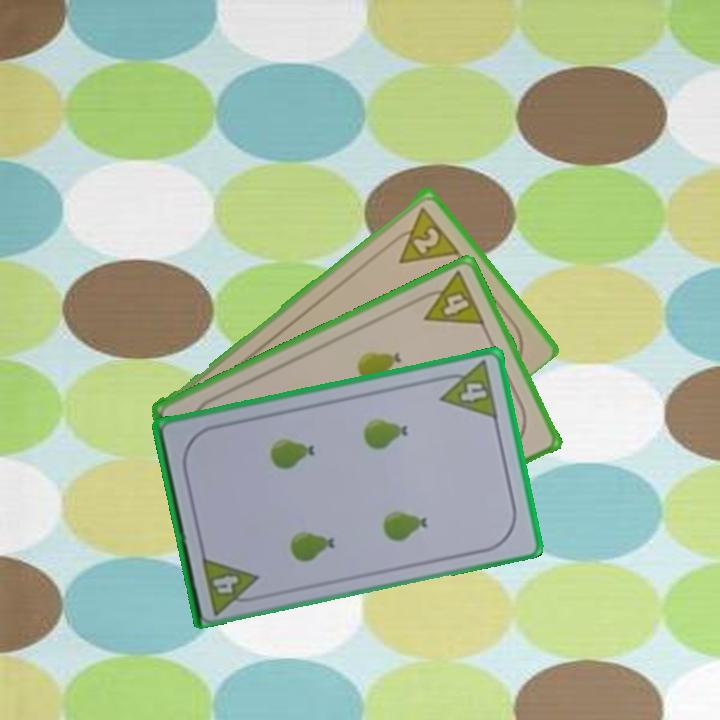2p: (385, 203, 461, 267)
4p: (412, 267, 488, 328), (433, 357, 501, 422), (198, 551, 264, 616)
